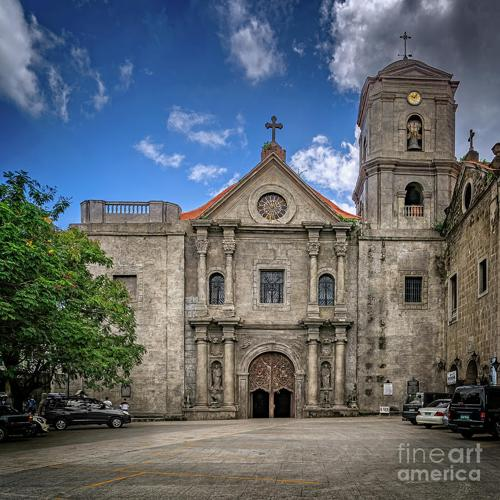San Agustin Church: (189, 22, 461, 431)
